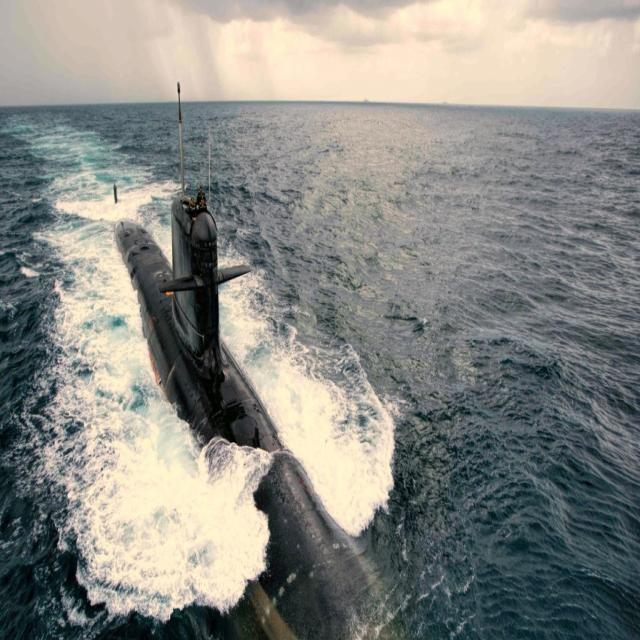submarine: (103, 67, 406, 640)
